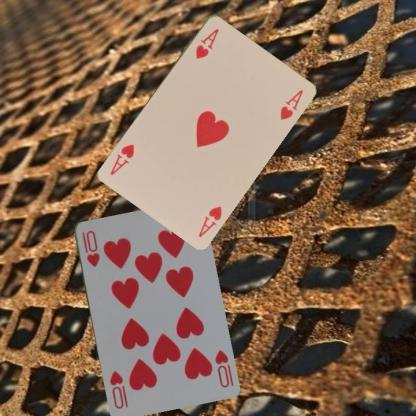10h: (79, 227, 101, 268), (212, 347, 231, 389)
Ah: (195, 202, 223, 238), (193, 26, 220, 60)
